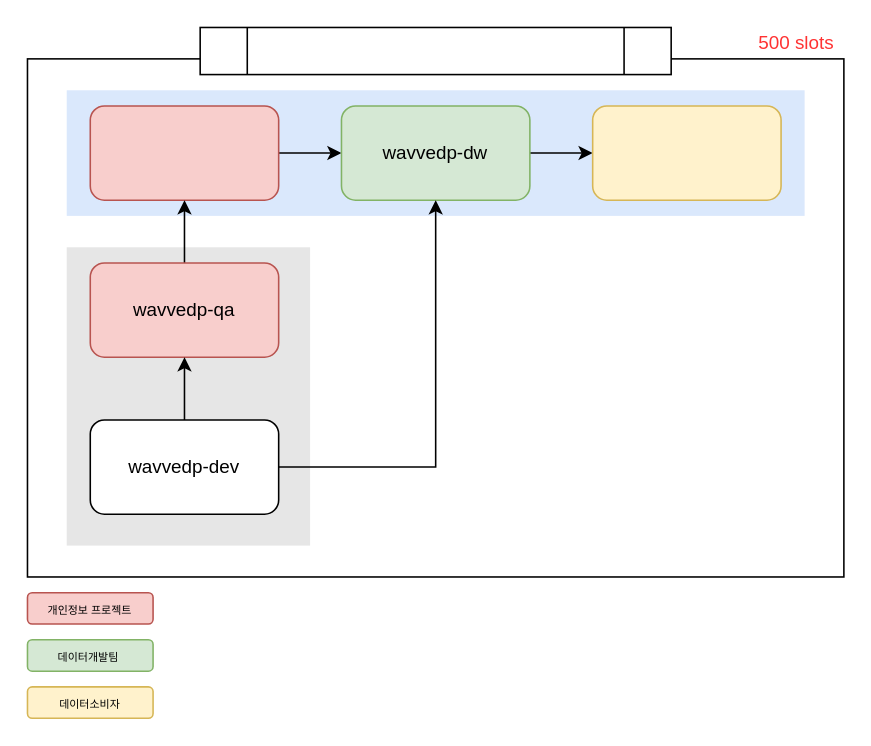
The diagram is 871 pixels wide and 746 high, and some of its shapes have lost their labels. The shapes that lost their labels are listed below. From the top down, each one's centre as x and y in pixels, then its label:
At point (435, 50): "data.contentwavve.com".
At point (184, 152): "wavvedp-prd".
At point (686, 152): "wavvedp-biz".
